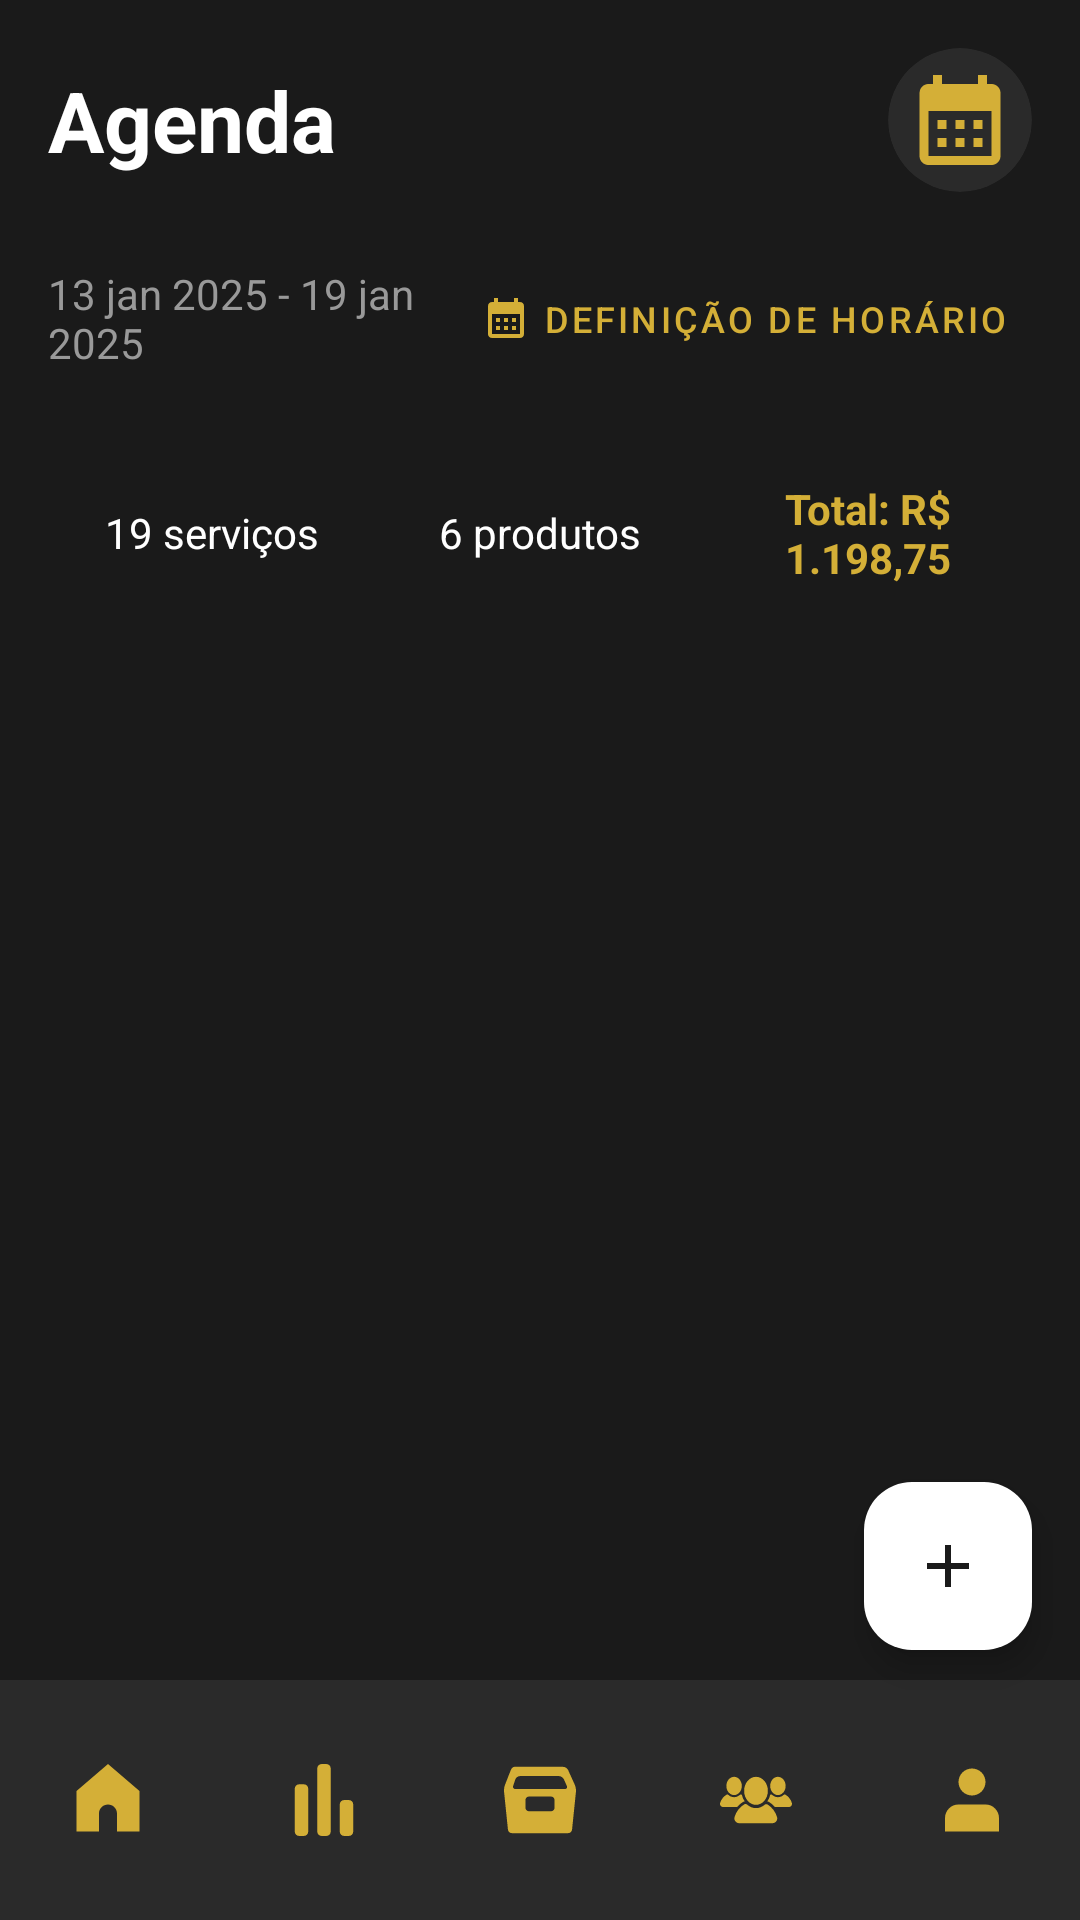

Locate icon controls on the screen. Image size 1080x1920, boxes as [x1=x1, y1=y1, x2=x2, y2=y2].
Adicionar agendamento: [x1=864, y1=1482, x2=1032, y2=1650]
calendar: [x1=919, y1=75, x2=1001, y2=165]
